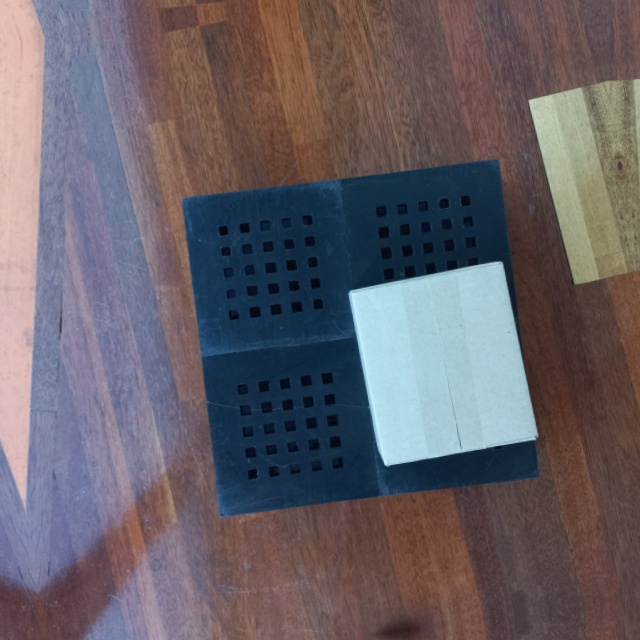box: (347, 258, 539, 471)
pallet: (176, 154, 546, 521)
